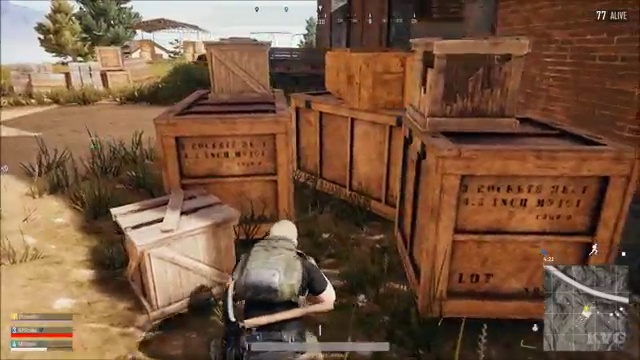Player: (200, 210, 354, 327)
